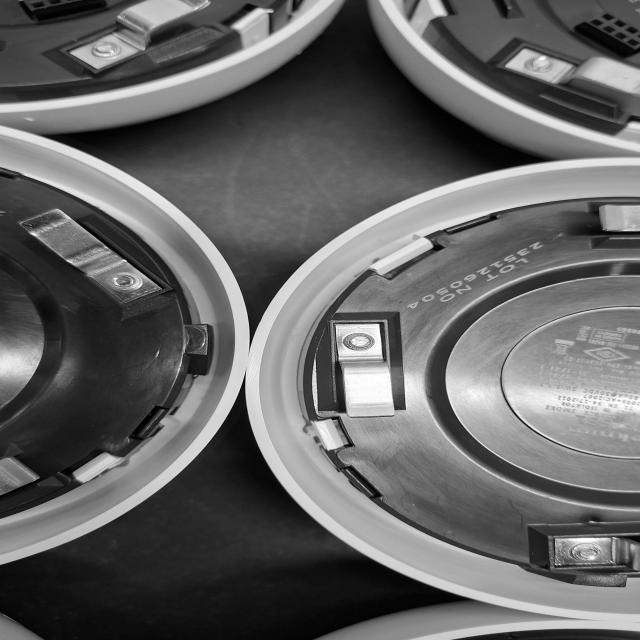yaysiz: (6, 198, 170, 326), (311, 304, 425, 441)
